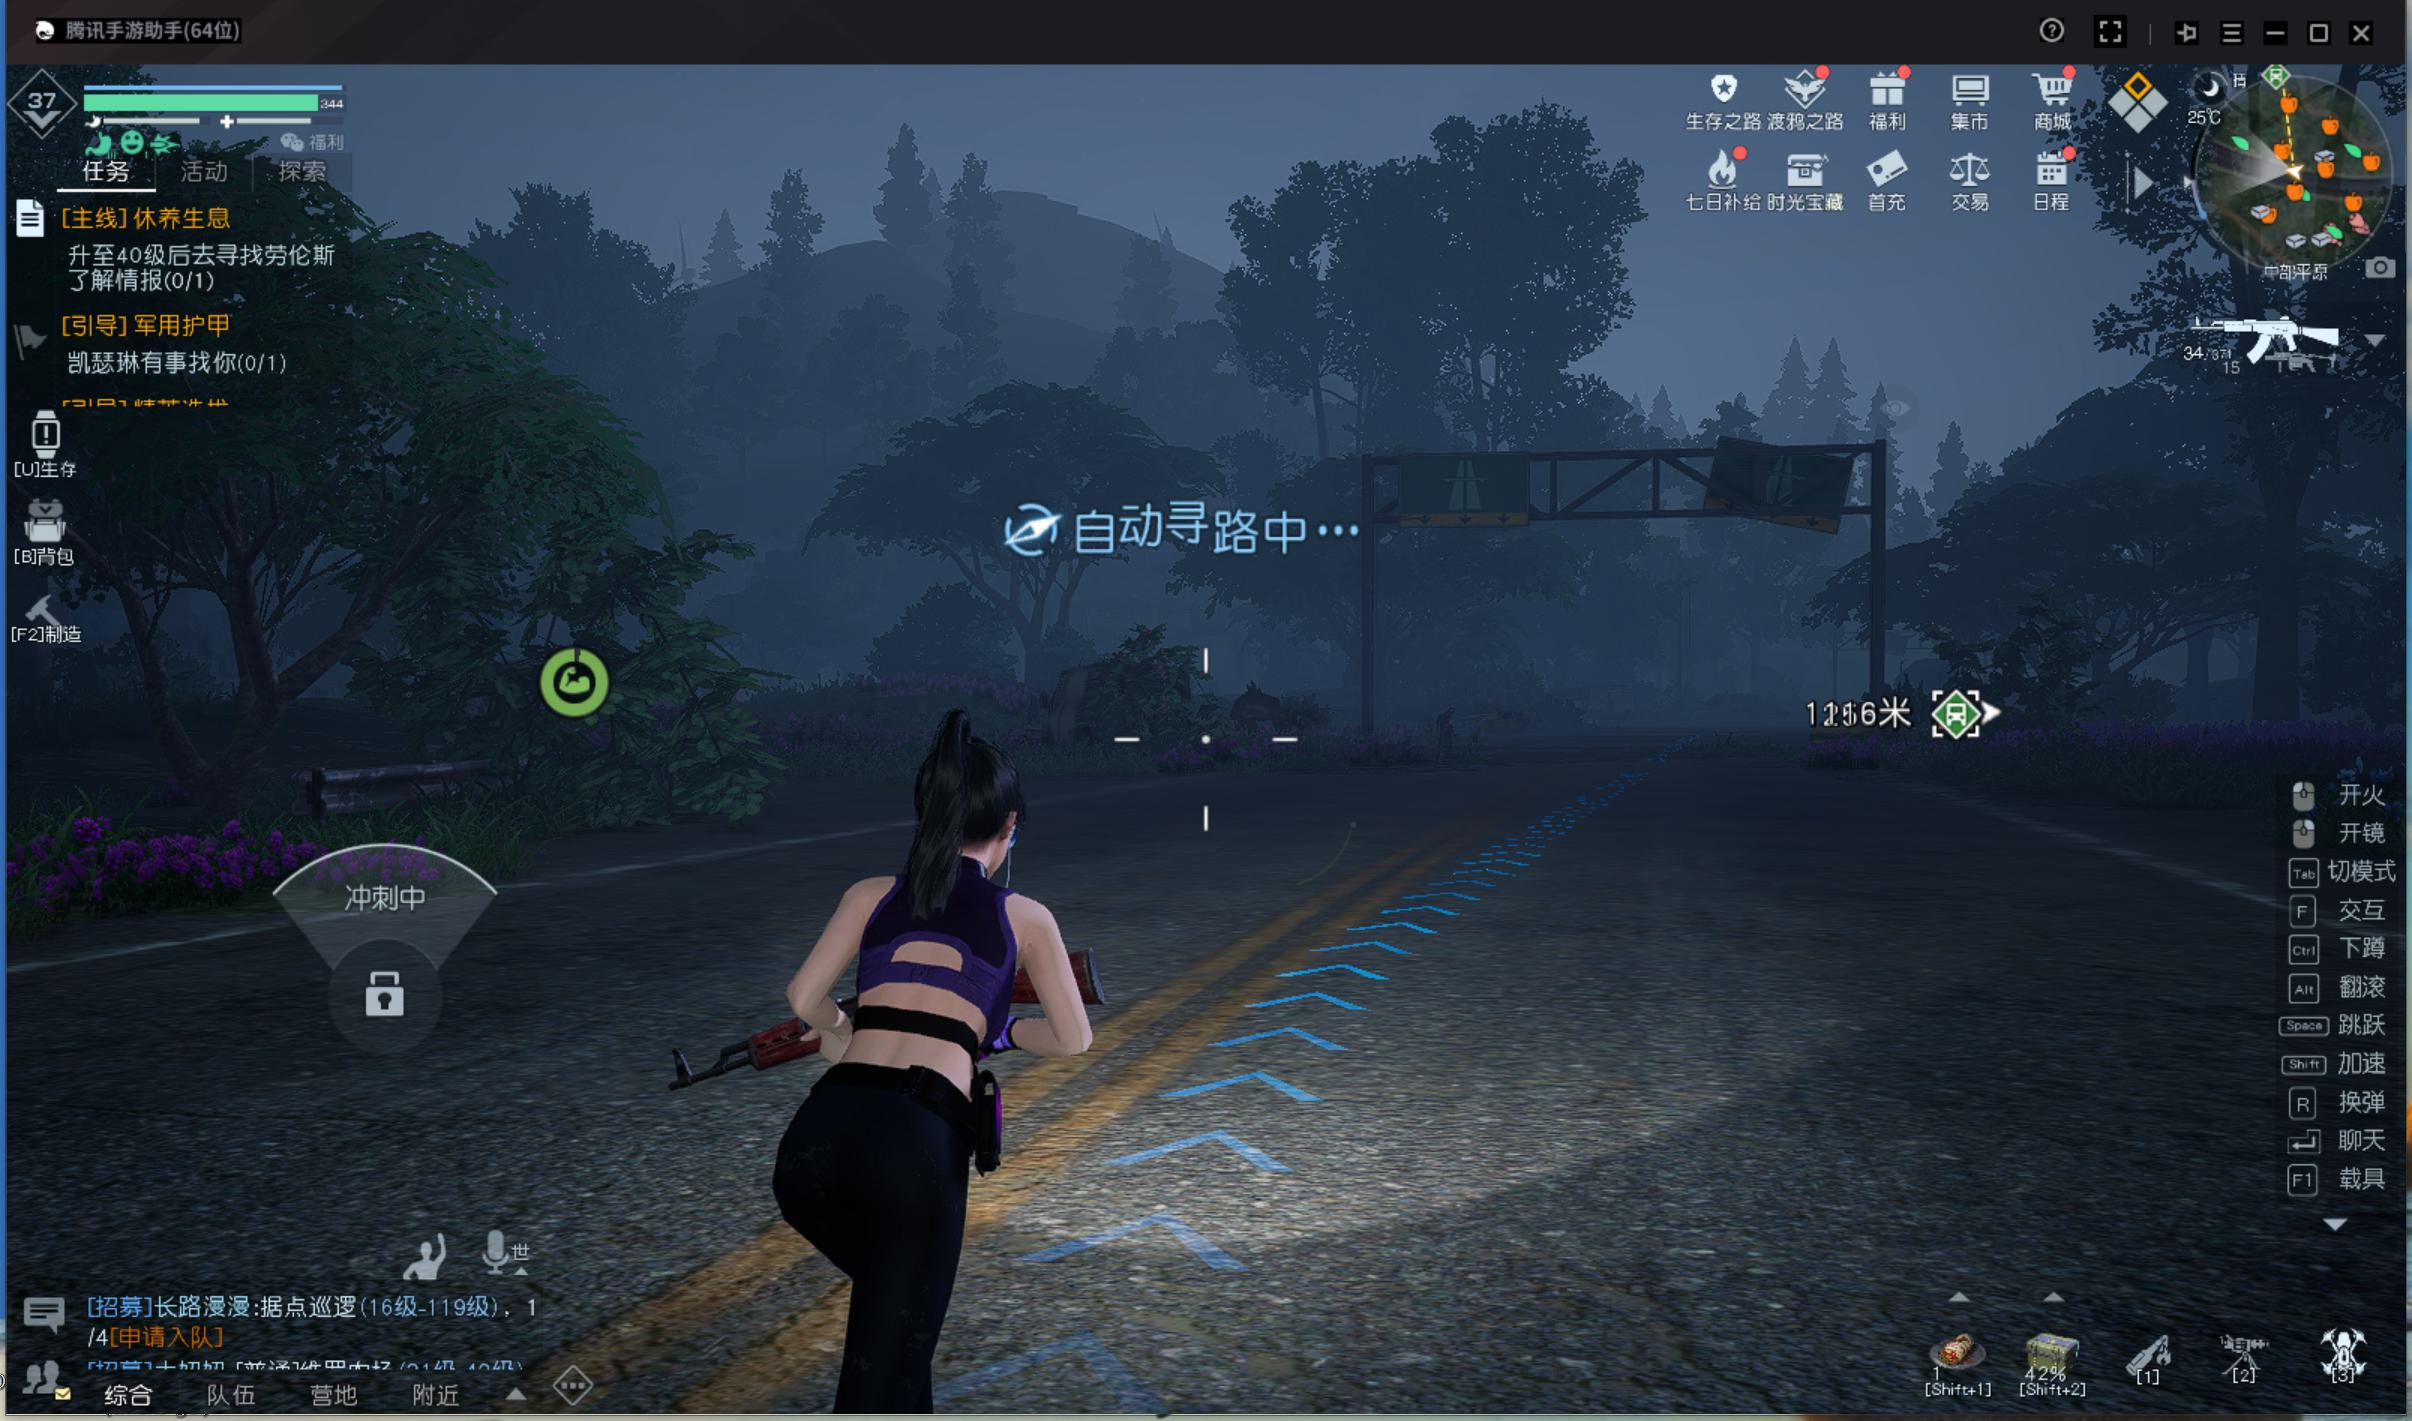tree: (2241, 467, 2316, 754)
